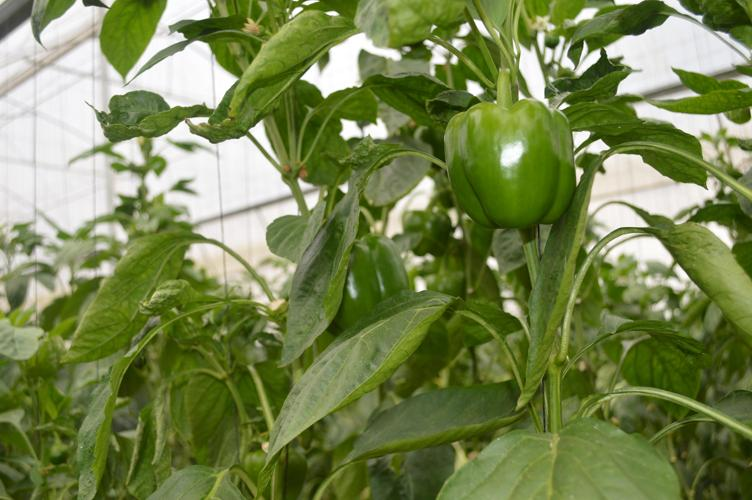BellPepper: (444, 99, 582, 231), (308, 230, 417, 326)
